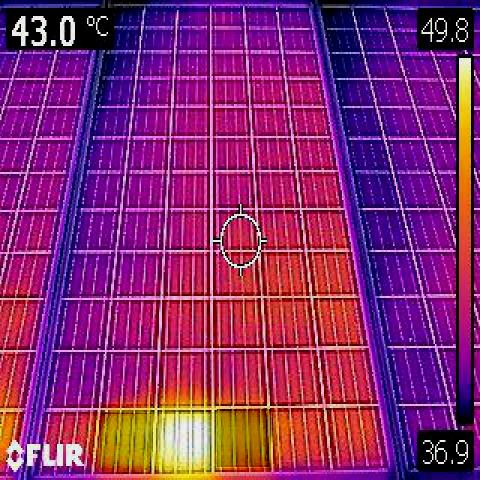fault: (155, 409, 215, 473), (218, 410, 272, 468), (100, 413, 151, 470)
